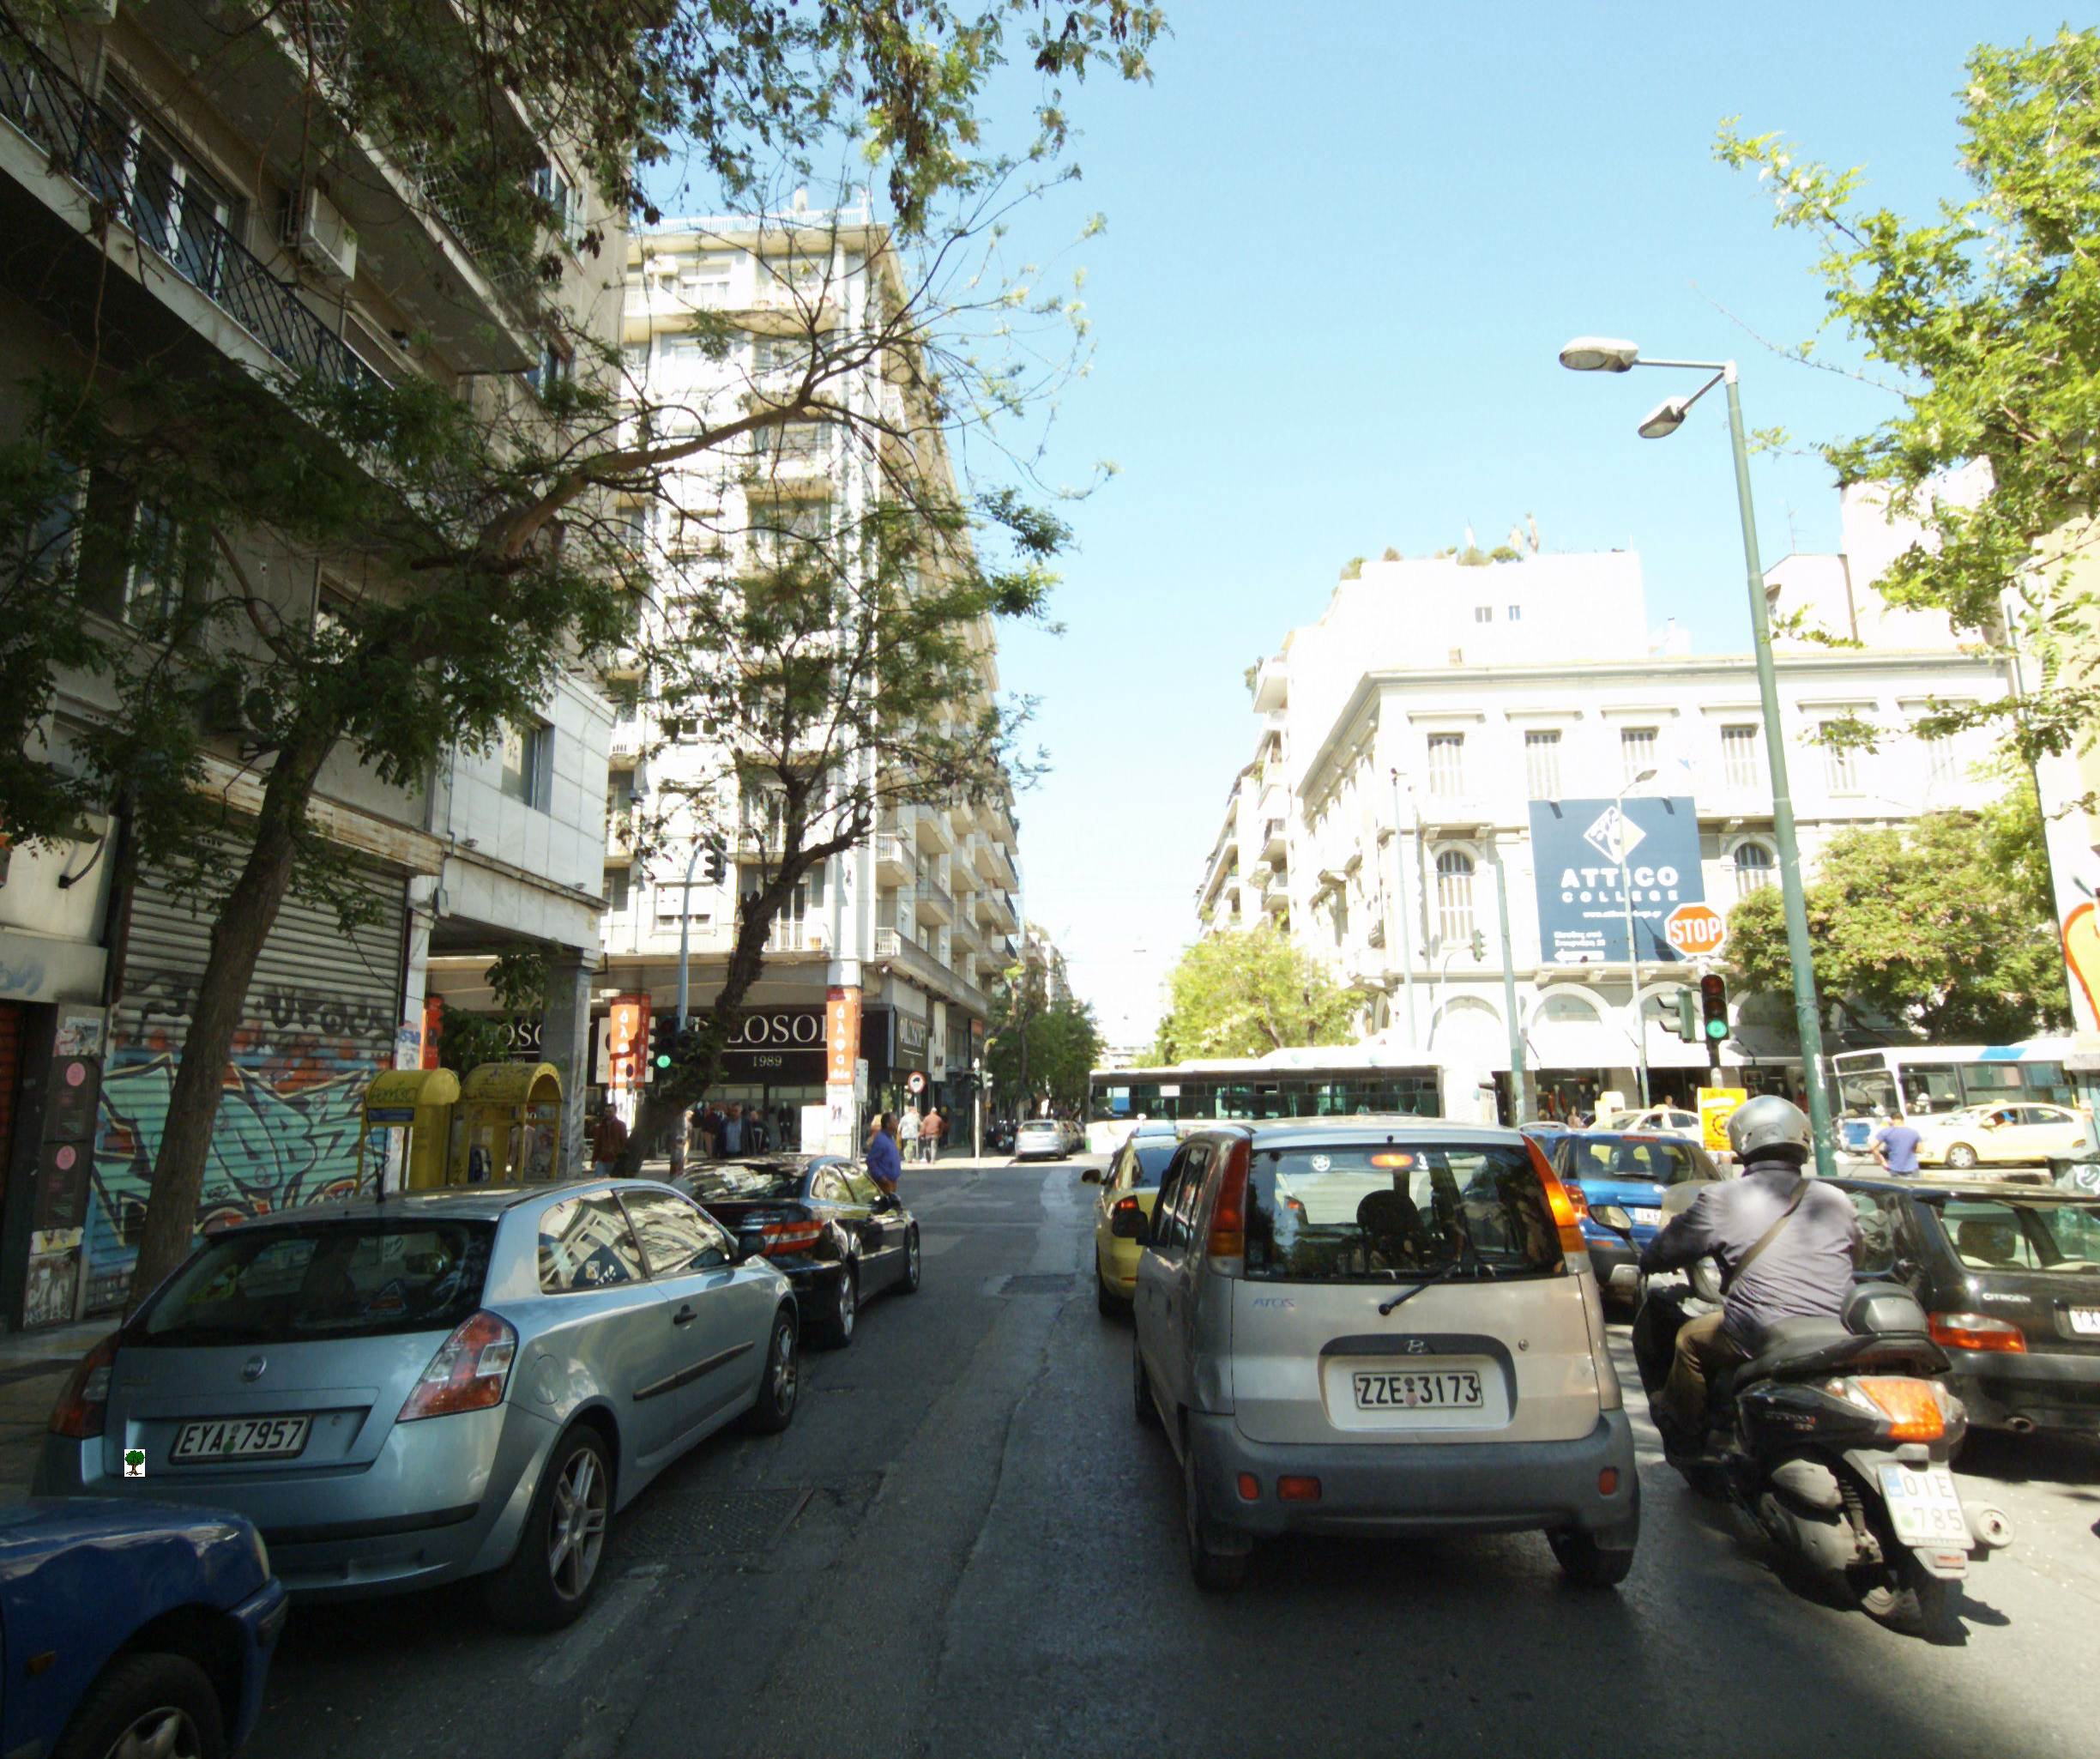tree: (89, 24, 551, 1419)
